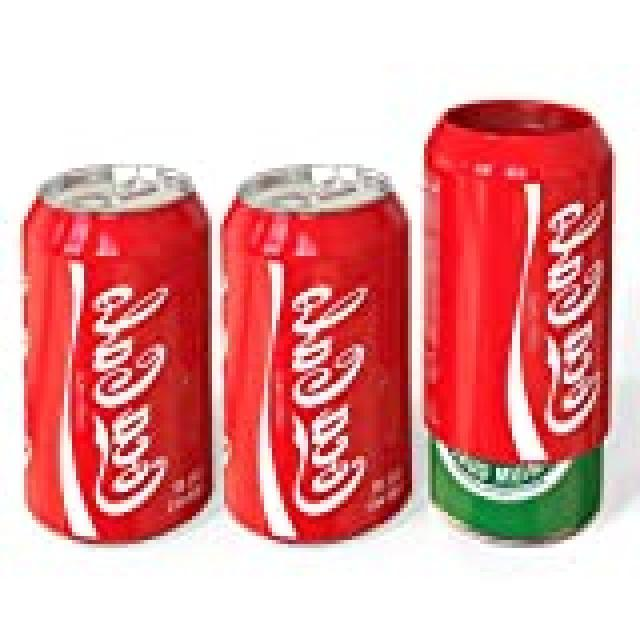can: (416, 79, 622, 554), (202, 148, 415, 592), (8, 170, 210, 558)
